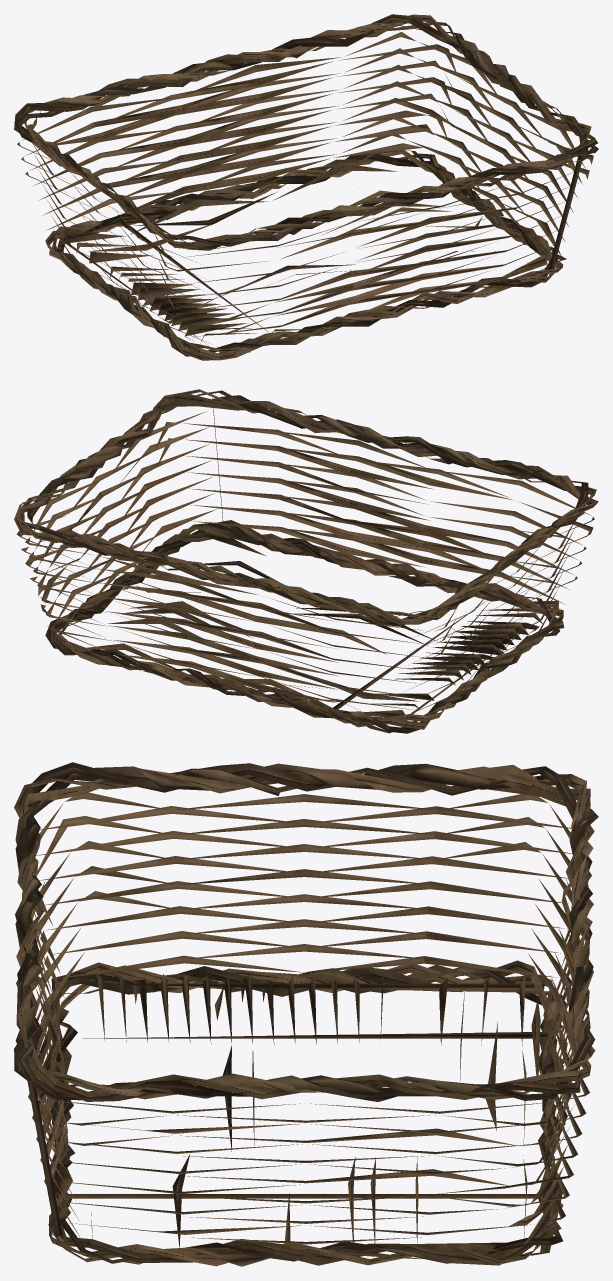
Rendered from wicker_basket_01_lod.gltf.
3 renders of one model, top to bottom at view 1: azimuth 30°, elevation 25°; view 2: azimuth 150°, elevation 25°; view 3: azimuth 270°, elevation 25°, orthographic. The views are drawn at different scales.
Visible parts, largest first — view 1: wicker_basket_01; view 2: wicker_basket_01; view 3: wicker_basket_01.
Boxes of the visible parts, x1,y1,x2,y2 form: wicker_basket_01: [14, 14, 598, 360]; wicker_basket_01: [14, 389, 598, 733]; wicker_basket_01: [14, 762, 598, 1266].
Size of the model in its own units: 0.383 by 0.1173 by 0.2928.
Materials: 1 (1 with a texture image).
